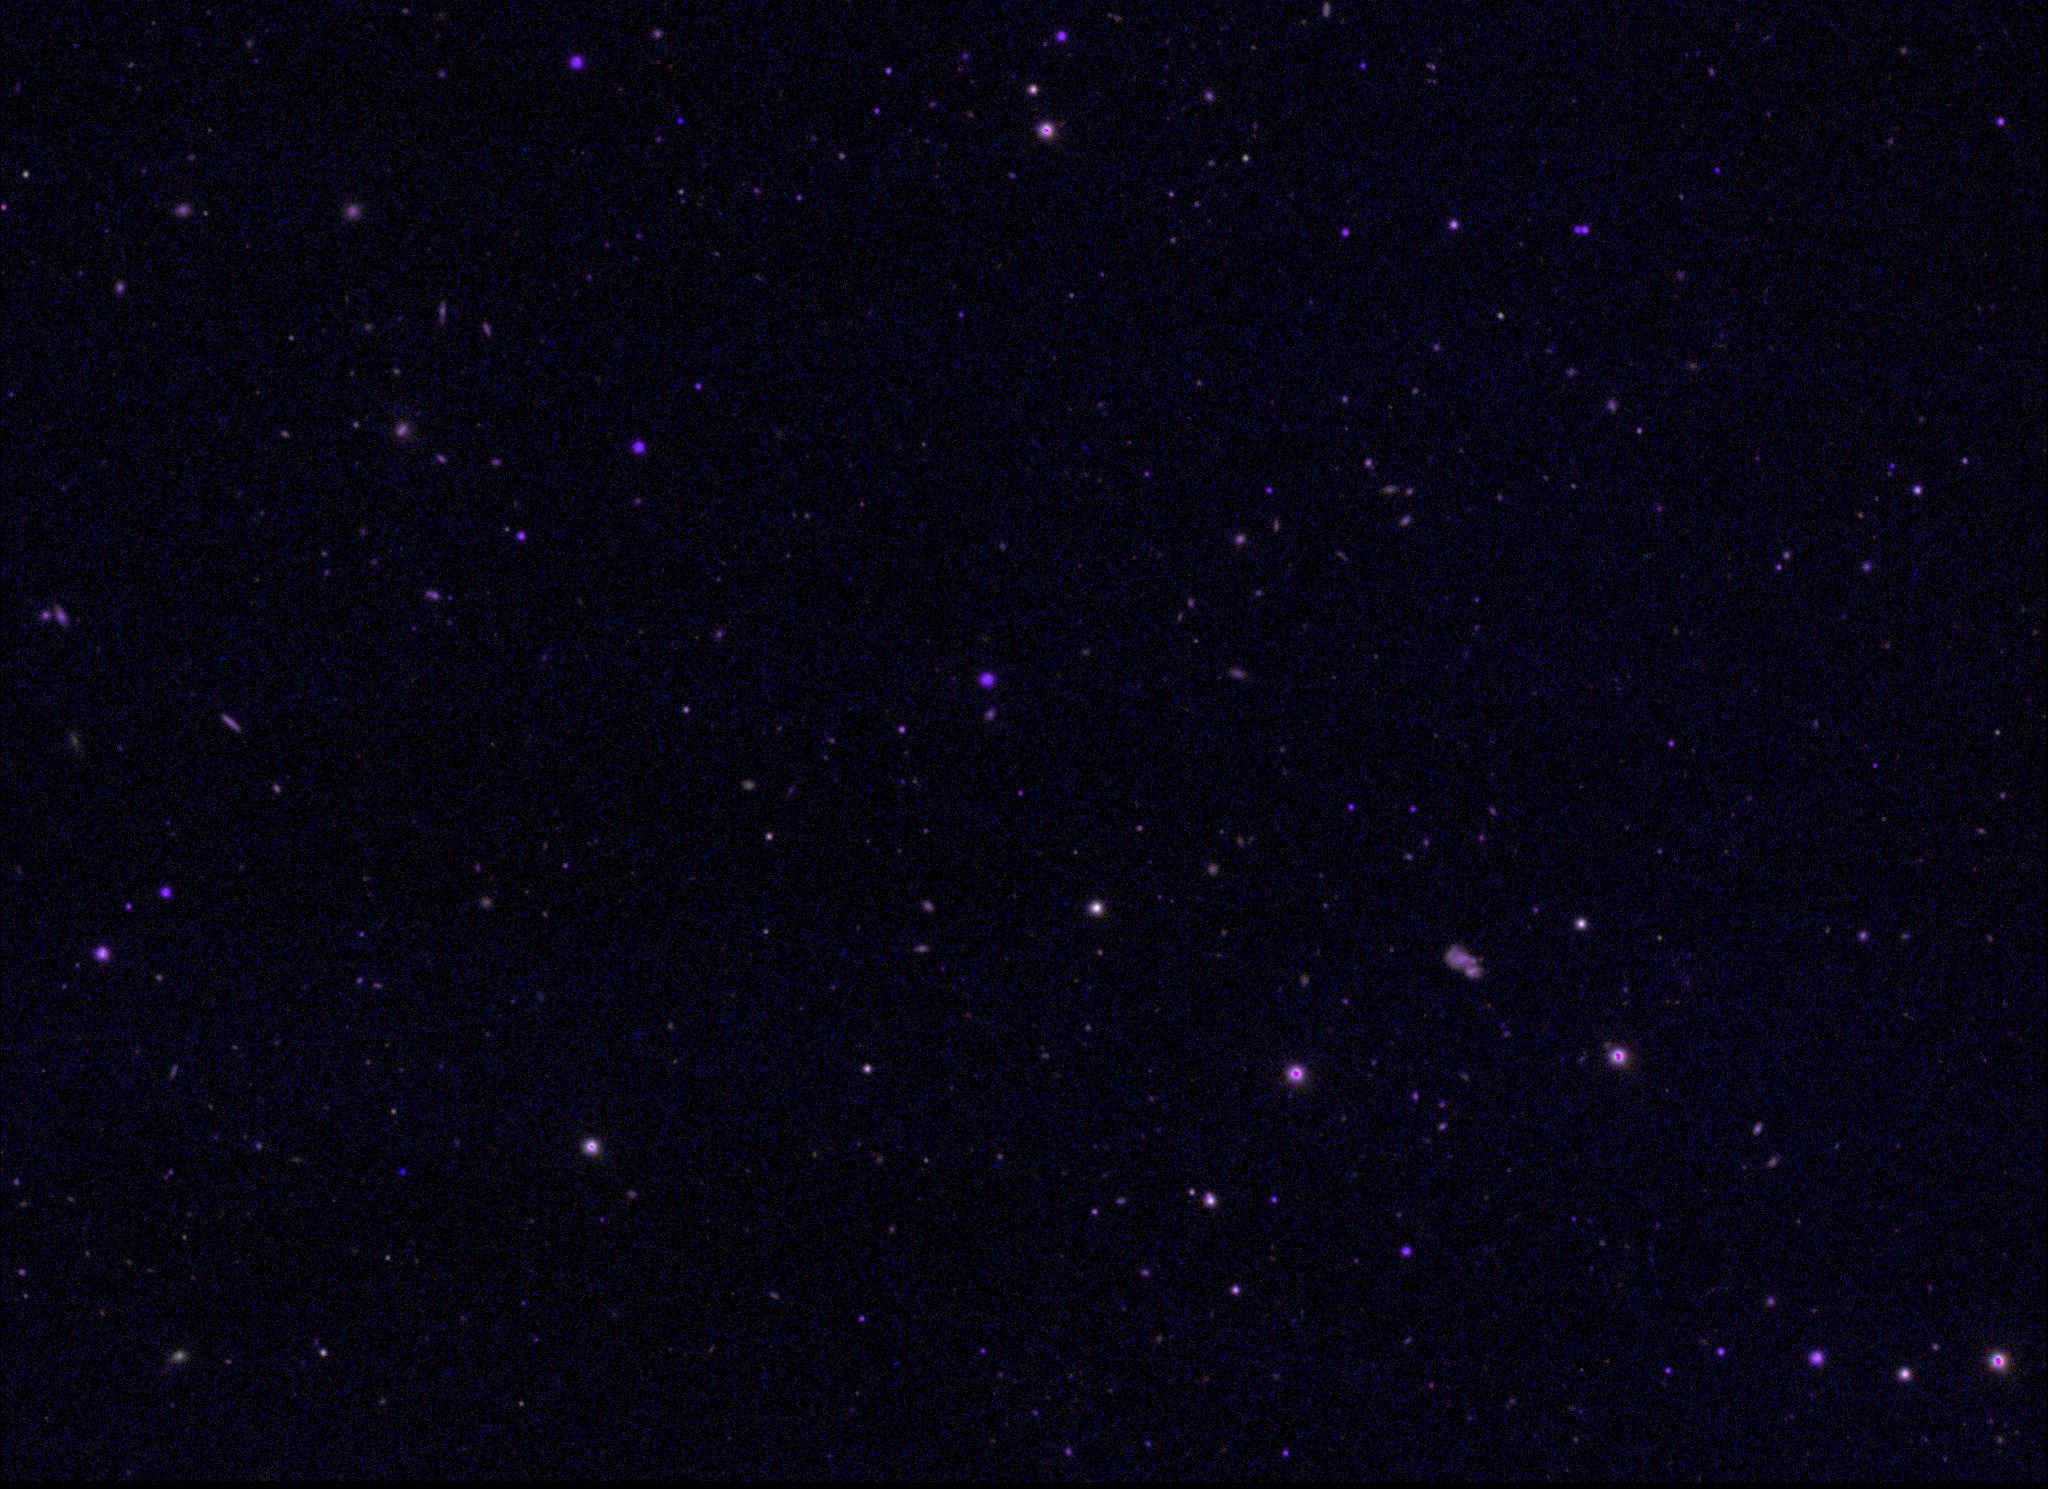L: (394, 1169, 409, 1184)
